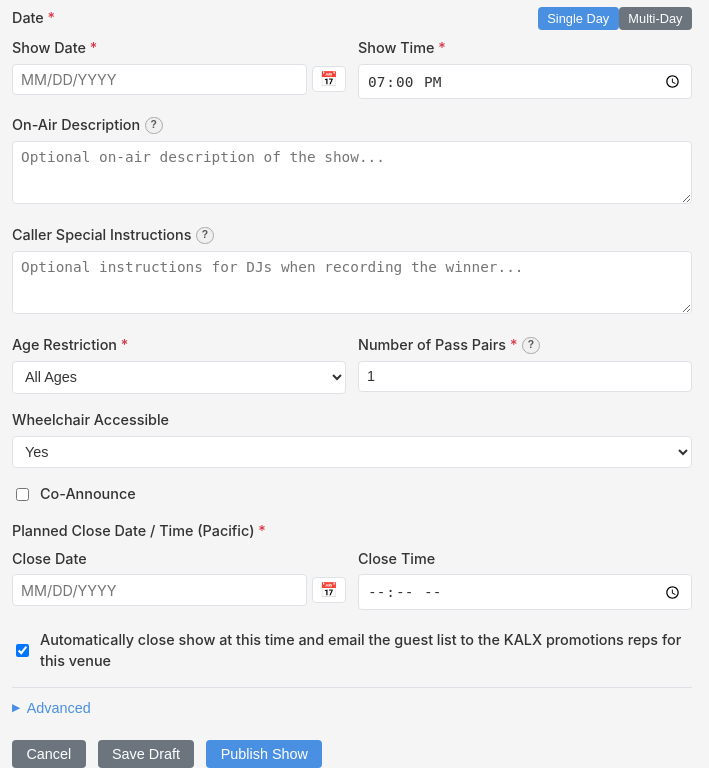
ShowForm › Form Validation › should show validation error when event name is empty
The image size is (709, 768).
(page scrolled)
Click the button "Save Draft": (146, 754) [98, 740, 194, 767]
(page scrolled)
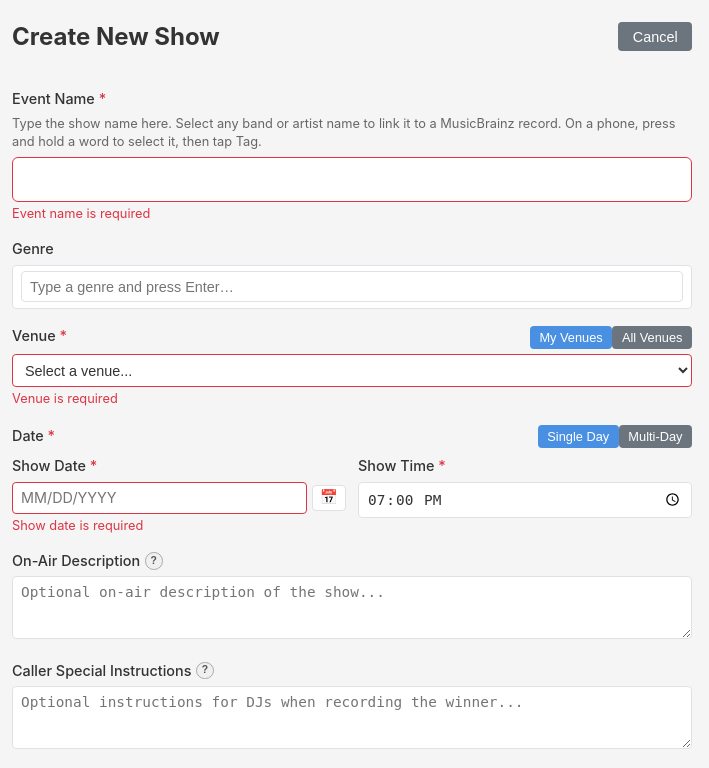
Result: the text "Event name is required" is shown at [12, 206, 150, 221]
